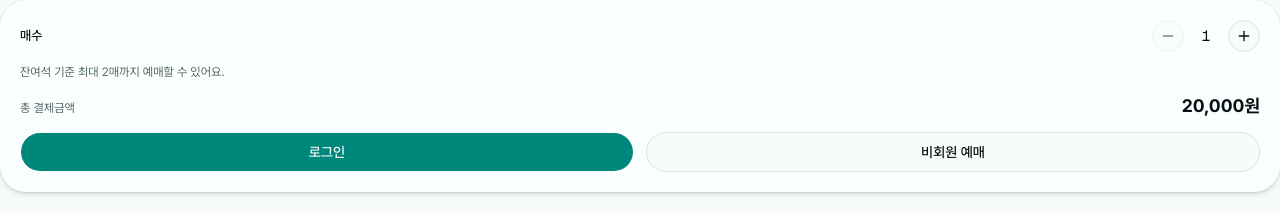
Test case: BookingForm — 매수 선택(1단계) › 매수는 1매 미만으로 줄일 수 없고 잔여석 상한을 넘지 않는다
Check: the button named "매수 줄이기" is disabled, box 1152,20 -> 1184,52
Click the button named "매수 늘리기": [1244, 36] box 1228,20 -> 1260,52
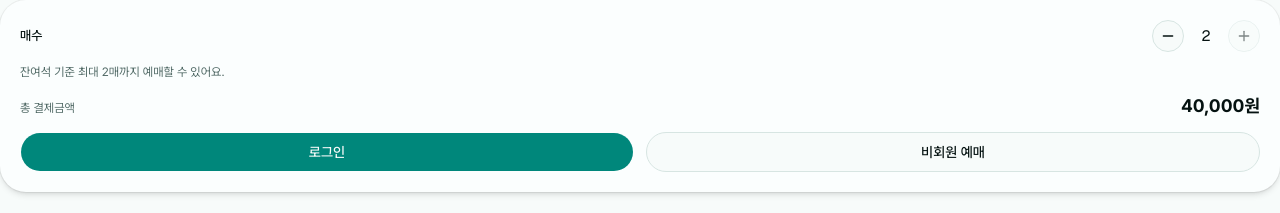
Check: the button named "매수 늘리기" is disabled, box 1228,20 -> 1260,52
Check: the text "40,000원" is shown, box 1181,92 -> 1260,120
